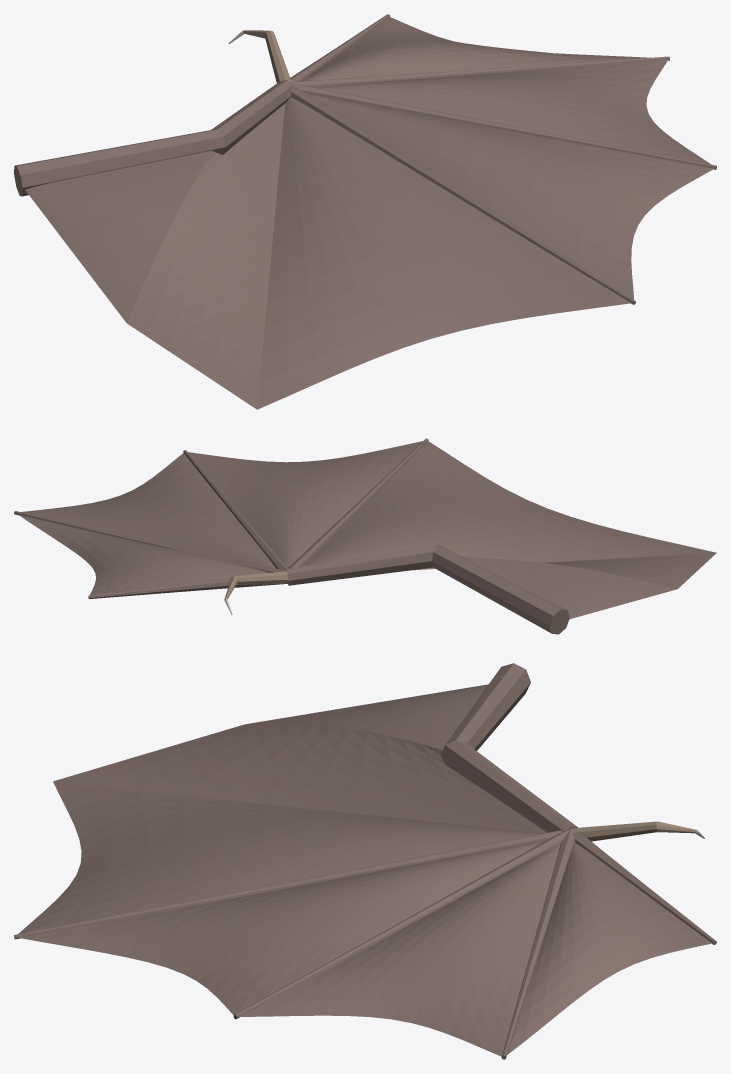
File: bat_wing_r_original_01.glb
The picture shows the model from 3 angles, top to bottom: view 1: azimuth 30°, elevation 25°; view 2: azimuth 150°, elevation 25°; view 3: azimuth 270°, elevation 25°; orthographic projection. The views are drawn at different scales.
Visible parts, largest first — view 1: B0_WingR, B0_WingStrutsR, B0_ThumbR; view 2: B0_WingR, B0_WingStrutsR, B0_ThumbR; view 3: B0_WingR, B0_WingStrutsR, B0_ThumbR.
Boxes of the visible parts, left/top/right/bottom form: B0_WingR: left=25, top=17, right=714, bottom=409; B0_WingStrutsR: left=14, top=14, right=716, bottom=304; B0_ThumbR: left=243, top=30, right=290, bottom=82; B0_WingR: left=18, top=441, right=716, bottom=619; B0_WingStrutsR: left=14, top=438, right=569, bottom=634; B0_ThumbR: left=224, top=571, right=288, bottom=599; B0_WingR: left=18, top=684, right=712, bottom=1056; B0_WingStrutsR: left=14, top=663, right=716, bottom=1059; B0_ThumbR: left=571, top=821, right=696, bottom=841.
Size of the model in its own units: 0.8654 by 0.136 by 0.7326.
